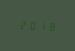eight: (45, 20, 53, 31)
one: (36, 19, 44, 31)
two: (18, 19, 26, 30)
zero: (27, 19, 35, 30)
